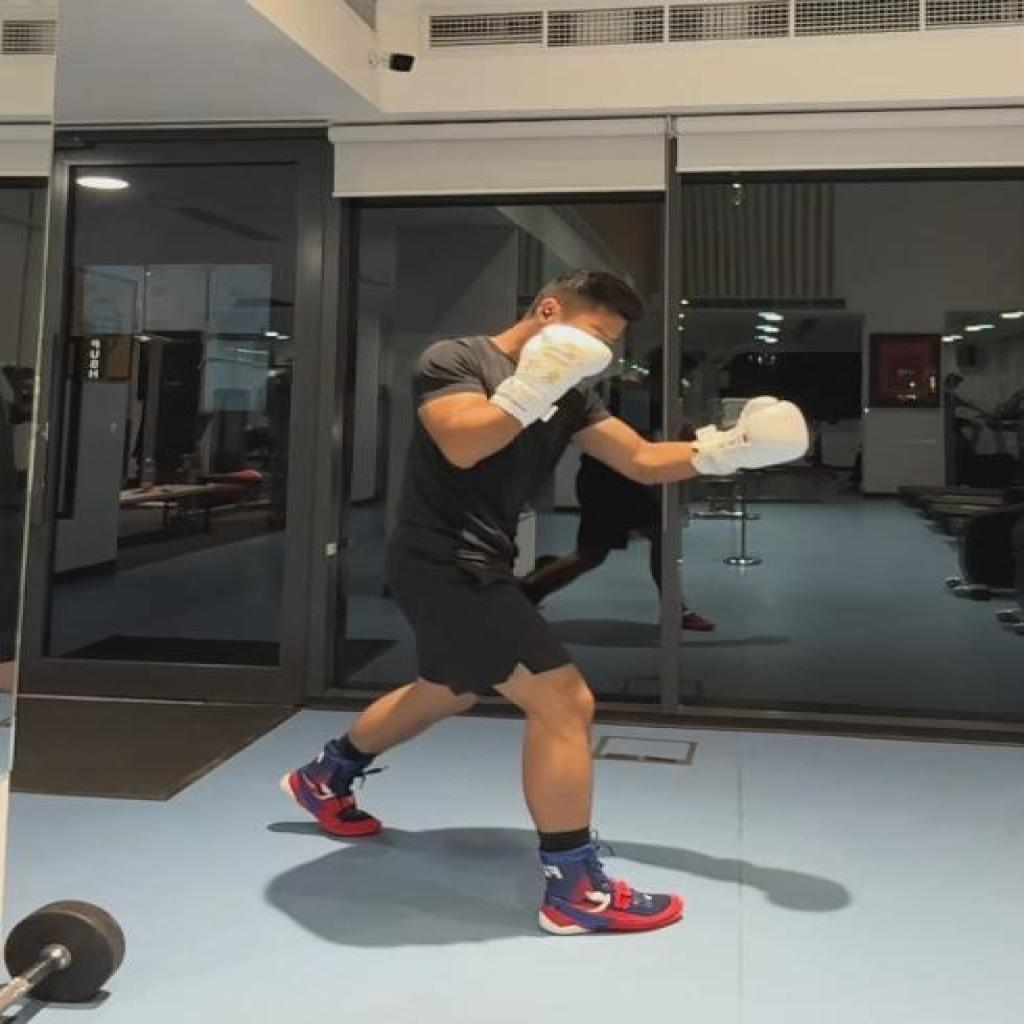uppercut: (282, 266, 815, 940)
